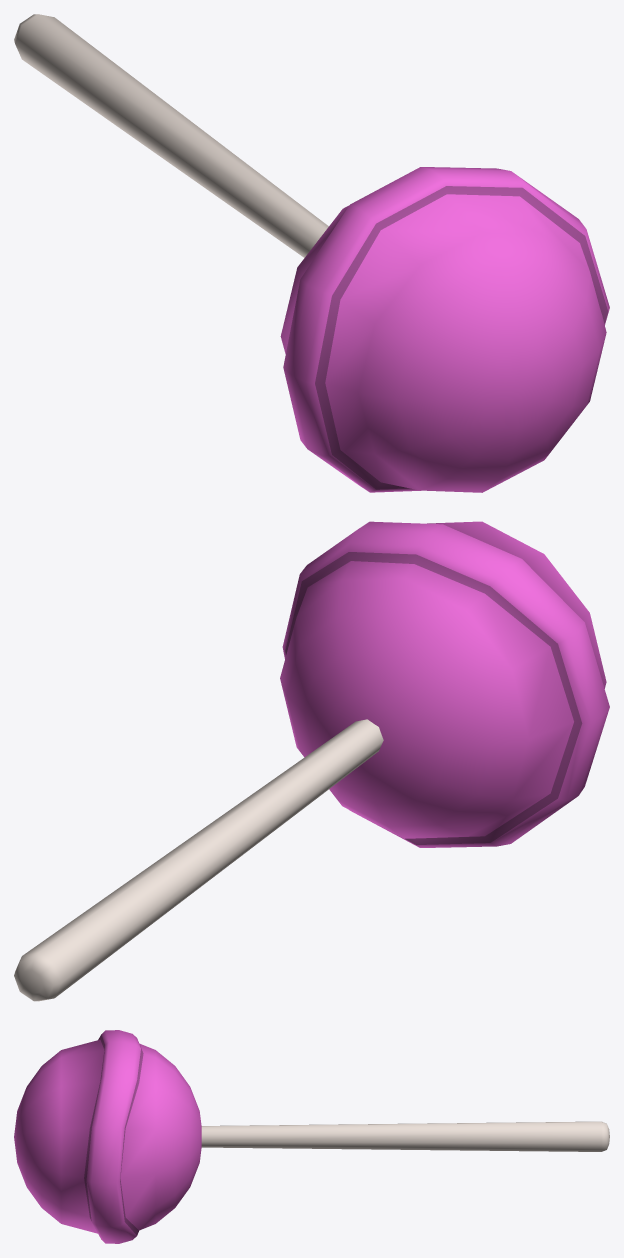
The model's file is cac5.fbx.
The picture shows the model from 3 angles, top to bottom: view 1: azimuth 30°, elevation 25°; view 2: azimuth 150°, elevation 25°; view 3: azimuth 270°, elevation 25°; orthographic projection. The views are drawn at different scales.
Visible parts, largest first — view 1: lolipop; view 2: lolipop; view 3: lolipop.
Part boxes in pixels (box(x1,y1,x2,y2)): lolipop: box(14, 14, 609, 492); lolipop: box(14, 521, 609, 1001); lolipop: box(14, 1030, 609, 1243).
Size of the model in its own units: 0.583 by 1.59 by 0.5584.
